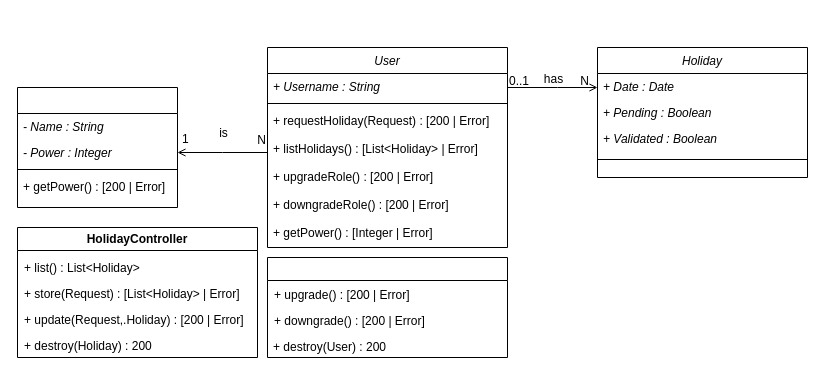
Some shapes in this 825 by 380 pixel diagram are drawn without their labels. The shapes that lost their labels are listed below. From the top down, each one's box as (x1, y1, x2, y2) in pixels, then its label:
(16, 86, 178, 208): Role
(266, 256, 508, 358): UserController
